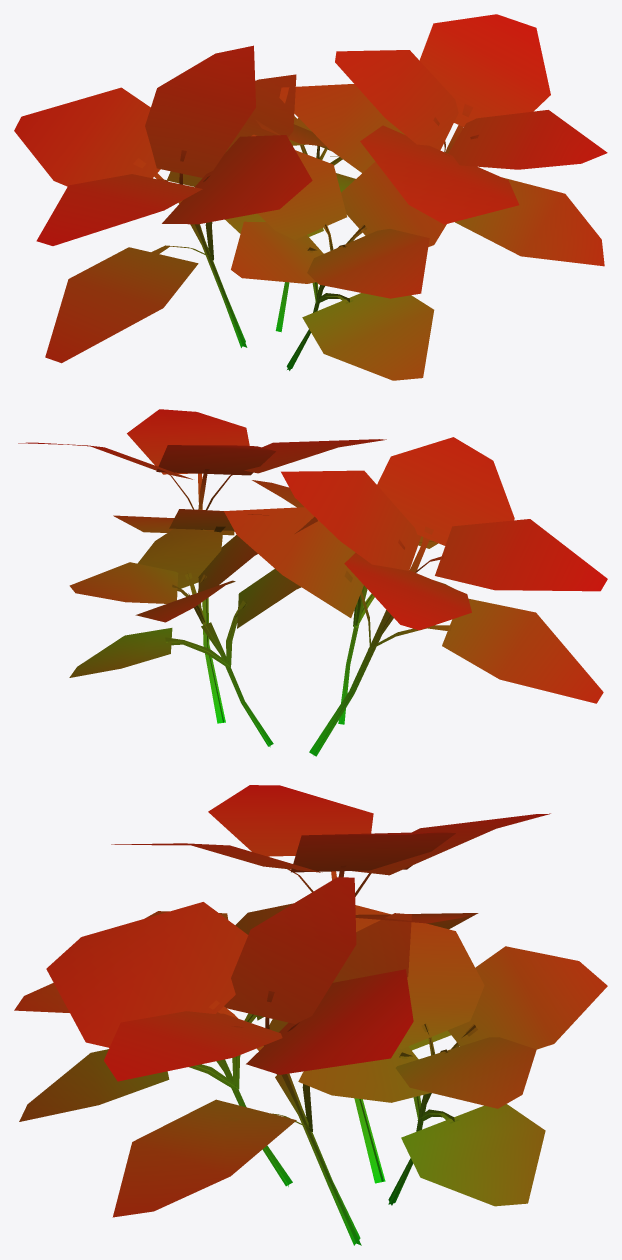
File: Yellow Archangel_LOD3_Var10_wcwmcfvia.fbx
3 views of the same model, one above another, from view 1: azimuth 30°, elevation 25°; view 2: azimuth 150°, elevation 25°; view 3: azimuth 270°, elevation 25° (orthographic). The views are drawn at different scales.
Parts seen in each view (by area): view 1: _0erb_Var10_LOD3; view 2: _0erb_Var10_LOD3; view 3: _0erb_Var10_LOD3.
Part boxes in pixels (x1,y1,x2,y2): _0erb_Var10_LOD3: (14,14,607,380); _0erb_Var10_LOD3: (18,409,607,756); _0erb_Var10_LOD3: (14,785,607,1245).
Size of the model in its own units: 9.02 by 4.57 by 6.79.
